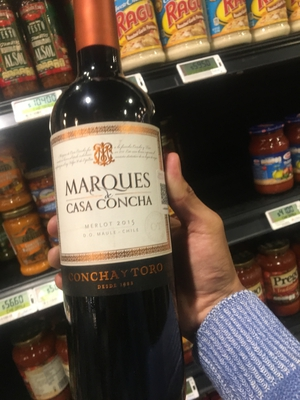marques de casa concha merlot: (53, 19, 187, 400)
